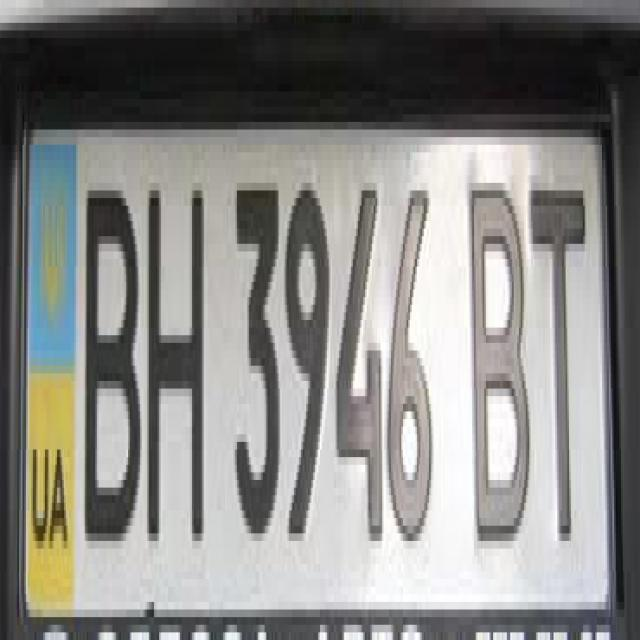Autre: (22, 108, 620, 631)
